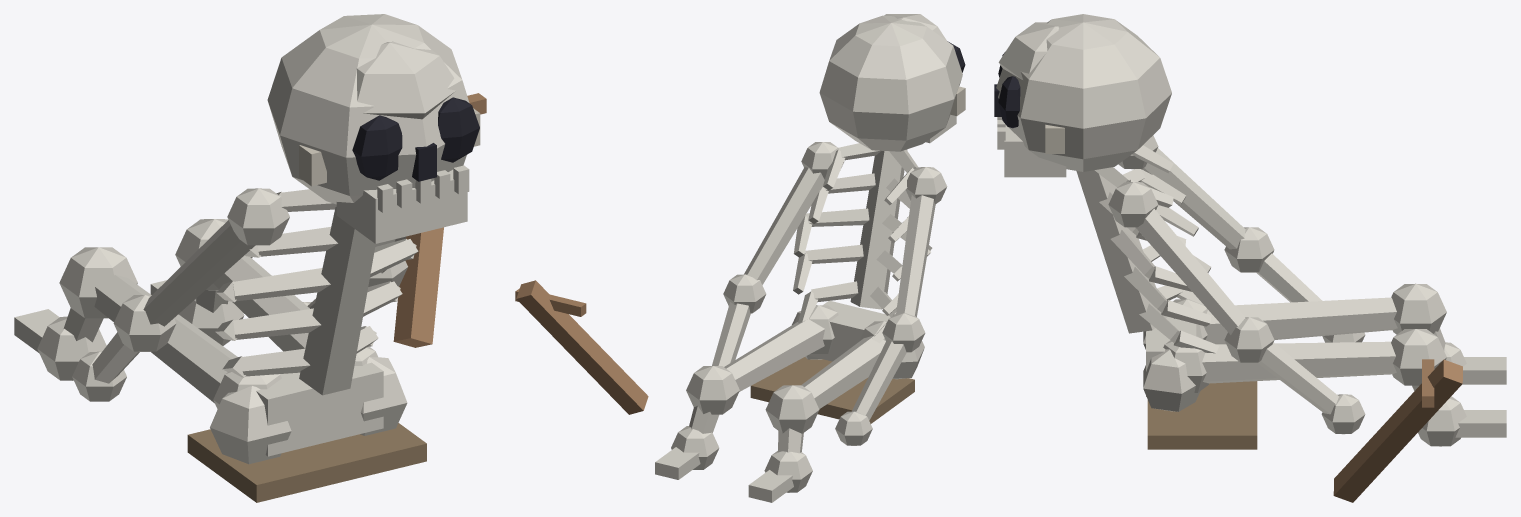
Rendered from skel_sit.glb.
3 views of the same model, side by side, from view 1: azimuth 30°, elevation 25°; view 2: azimuth 150°, elevation 25°; view 3: azimuth 270°, elevation 25° (orthographic). The views are drawn at different scales.
Visible parts, largest first — view 1: skel_sit; view 2: skel_sit; view 3: skel_sit.
Boxes of the visible parts, box(x1,y1,x2,y2) form: skel_sit: box(14, 14, 486, 502); skel_sit: box(515, 14, 965, 502); skel_sit: box(994, 14, 1506, 502).
Size of the model in its own units: 1.39 by 1.41 by 1.63.
